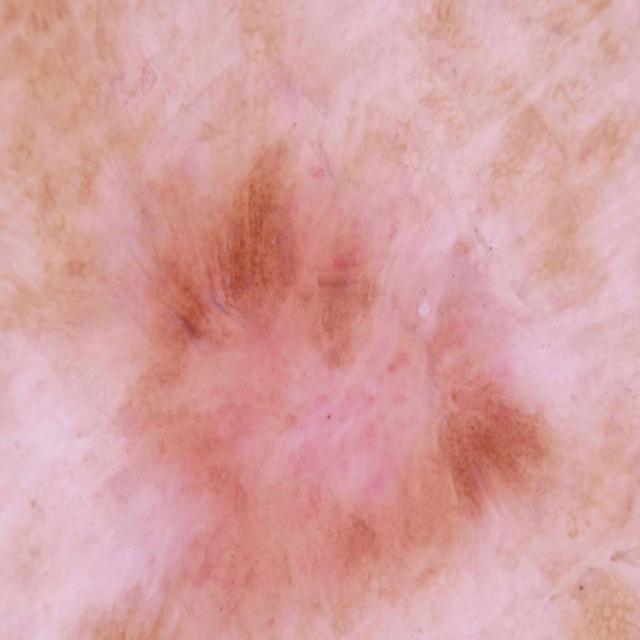Carcinoma: (83, 117, 568, 596)
